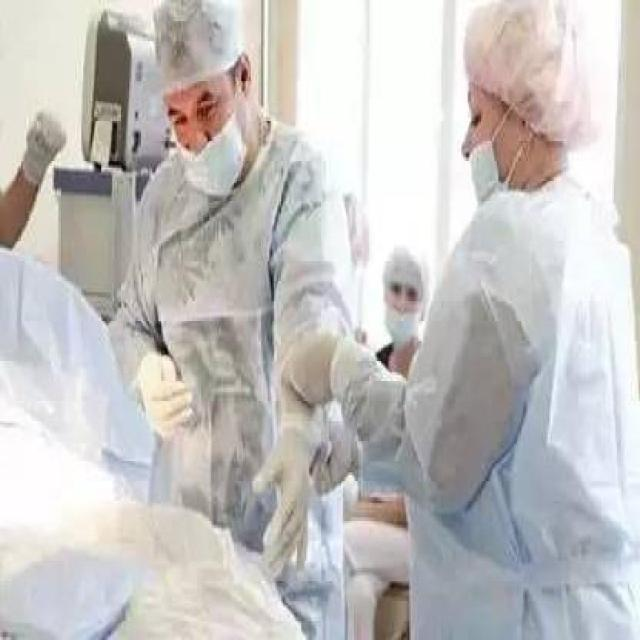face_mask: (164, 90, 253, 202), (454, 94, 511, 211)
hand_glove: (254, 423, 314, 579), (137, 348, 192, 440), (282, 328, 338, 403), (17, 102, 66, 183)
head_nohelmet: (137, 0, 254, 86), (372, 241, 426, 294)
person: (104, 0, 353, 631), (426, 0, 626, 640)
